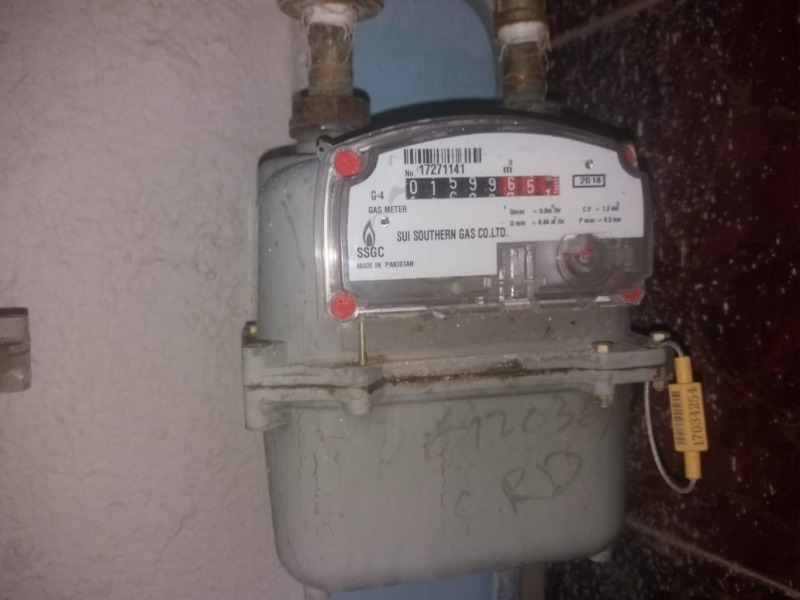ssgc: (401, 175, 563, 198)
